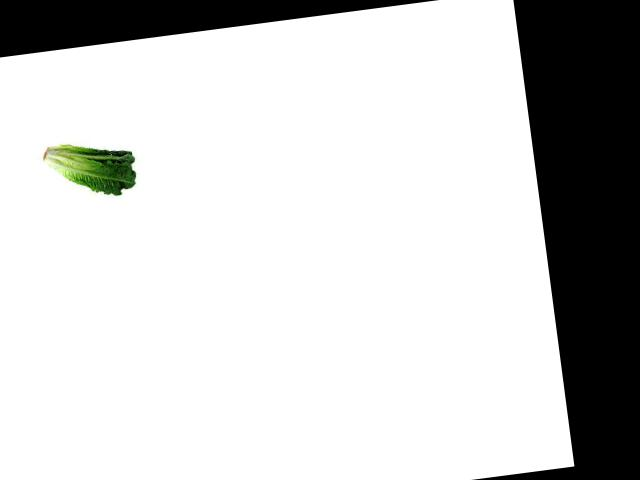lettuce: (36, 132, 141, 203)
